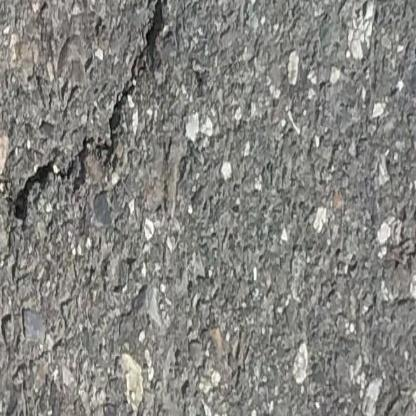Cracks: (6, 0, 176, 227), (0, 171, 6, 207)
